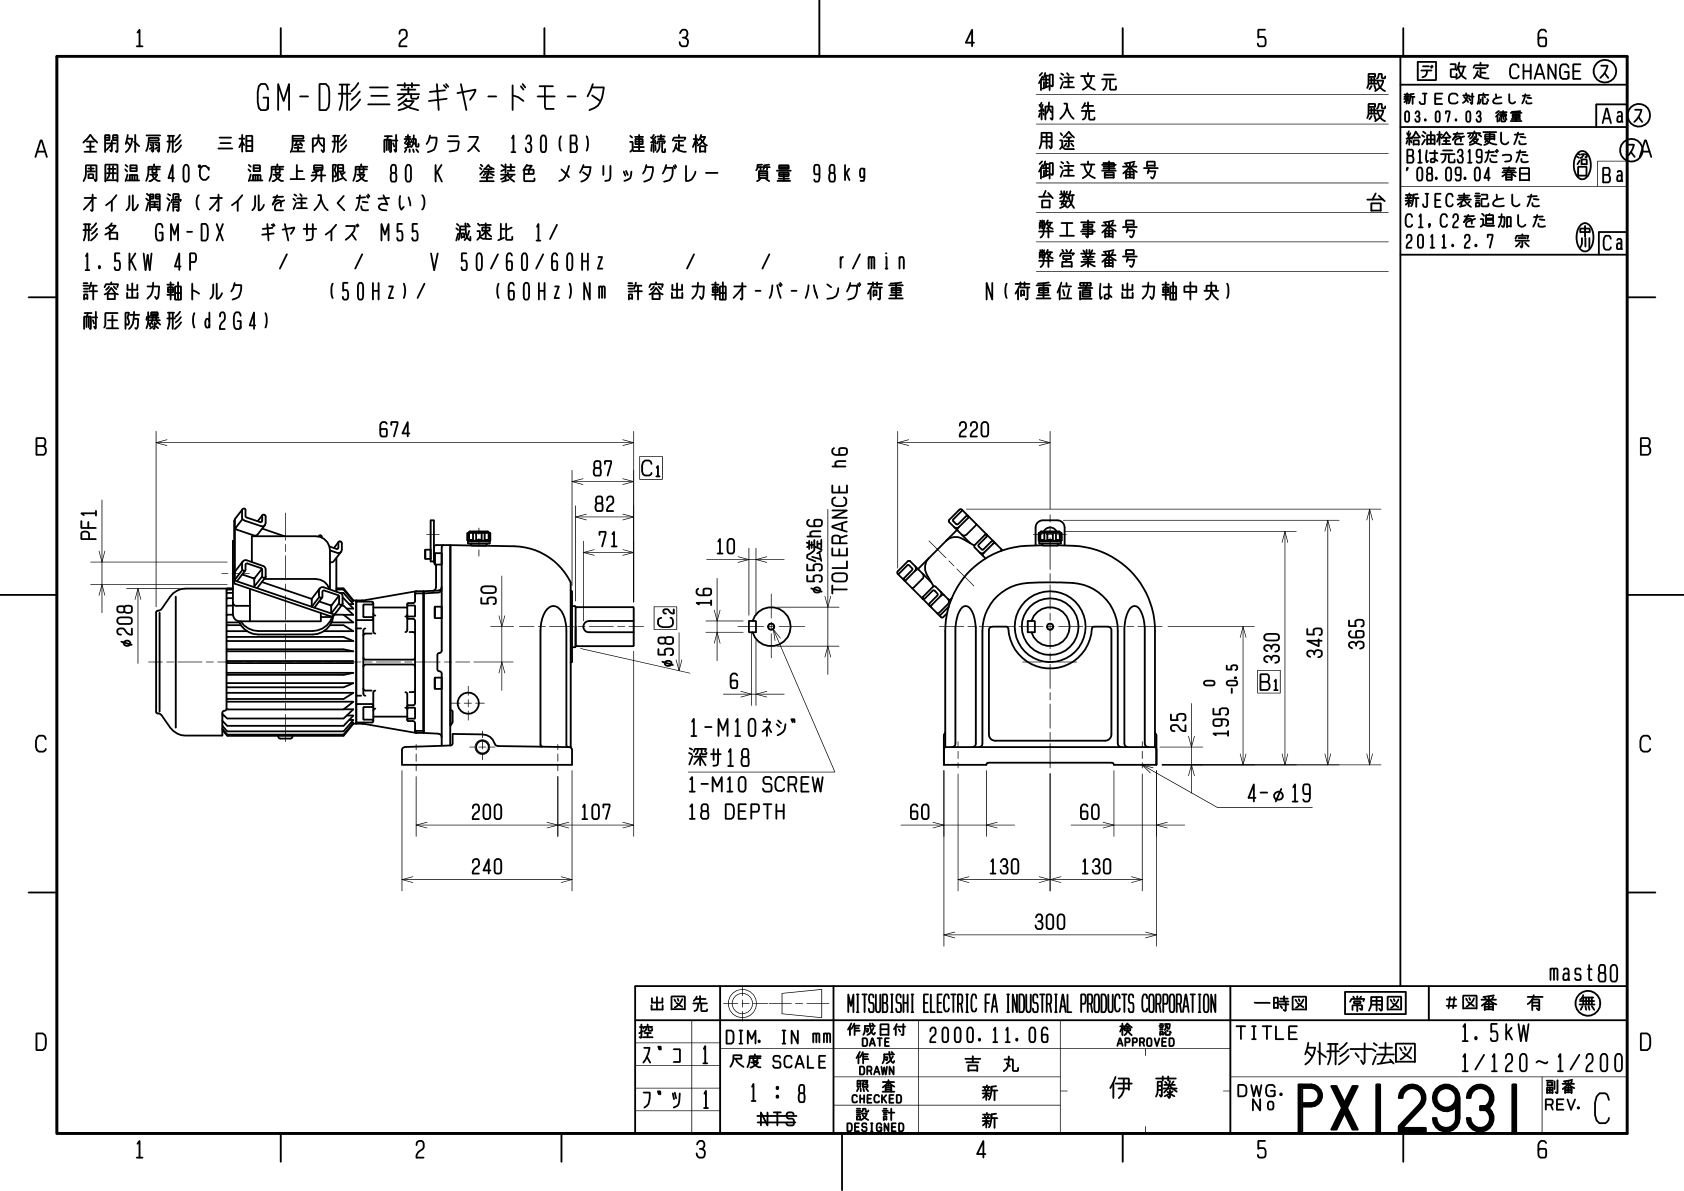GM_D_耐圧屋内_三相_脚: (1, 1, 1671, 1178)
